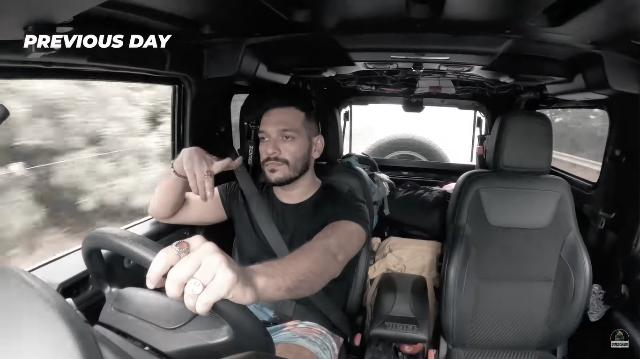seatbelt: (145, 148, 349, 358)
